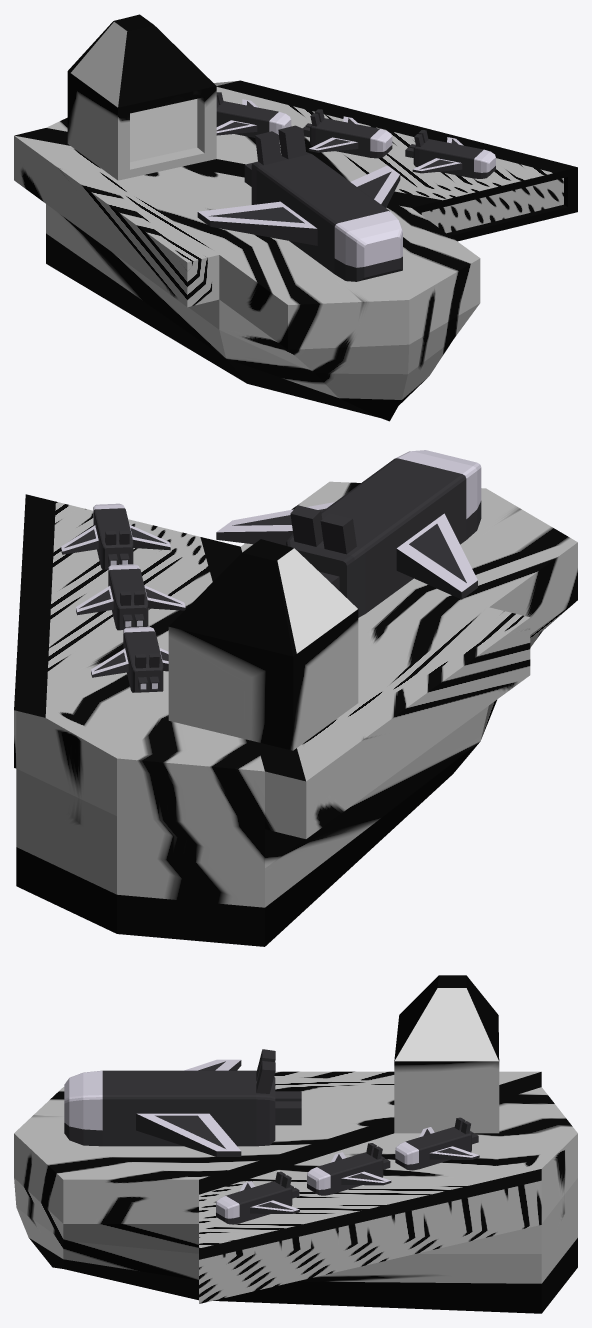
Rendered from SILVER_AirplaneCarrier.fbx.
3 views of the same model, one above another, from view 1: azimuth 30°, elevation 25°; view 2: azimuth 150°, elevation 25°; view 3: azimuth 270°, elevation 25° (orthographic). The views are drawn at different scales.
Visible parts, largest first — view 1: Cube, Cube.001, Cube.003, Cube.004, Cube.002; view 2: Cube, Cube.001, Cube.003, Cube.004, Cube.002; view 3: Cube, Cube.001, Cube.003, Cube.002, Cube.004.
Boxes of the visible parts, <box> form: Cube: <box>14,14,577,421</box>; Cube.001: <box>197,125,402,281</box>; Cube.003: <box>302,109,392,158</box>; Cube.004: <box>405,130,495,178</box>; Cube.002: <box>216,92,291,140</box>; Cube: <box>14,481,577,946</box>; Cube.001: <box>216,450,481,617</box>; Cube.003: <box>76,564,185,630</box>; Cube.004: <box>61,503,170,569</box>; Cube.002: <box>91,626,168,692</box>; Cube: <box>14,975,577,1313</box>; Cube.001: <box>64,1049,301,1156</box>; Cube.003: <box>307,1143,391,1195</box>; Cube.002: <box>395,1117,479,1170</box>; Cube.004: <box>216,1171,299,1224</box>.
Bounding box in the file's own units: 558 × 359 × 706.
